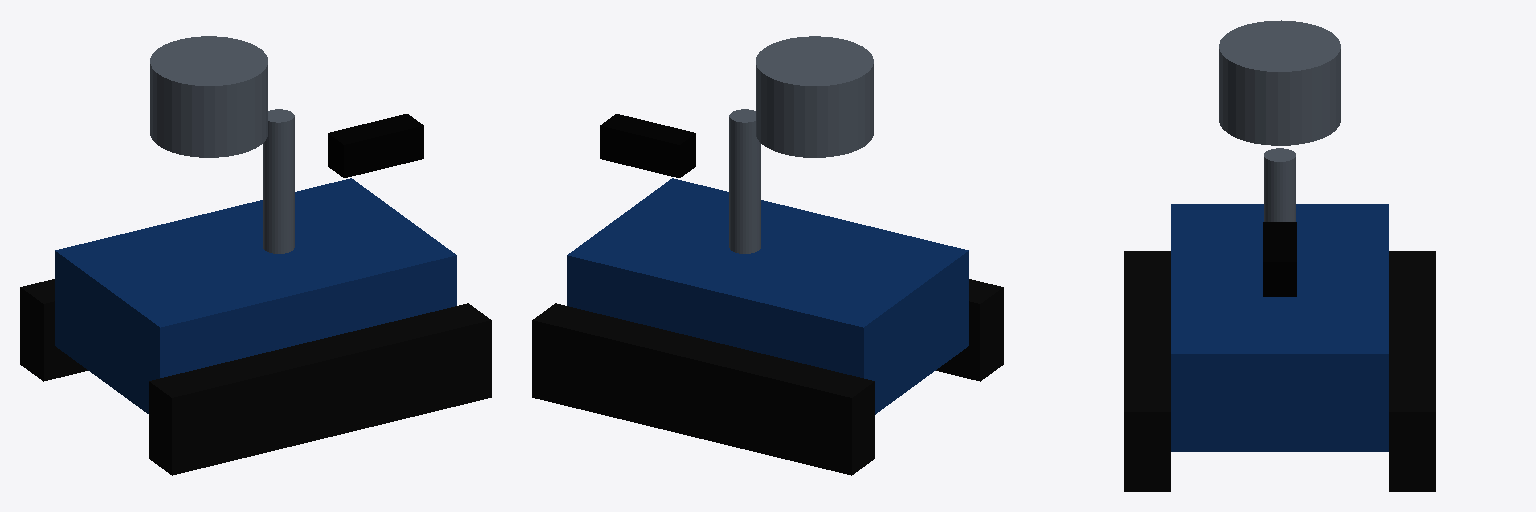
robot.urdf — iecme_tank:
<?xml version="1.0"?>
<robot name="iecme_tank">
  <material name="body_blue"><color rgba="0.08 0.22 0.42 1.0"/></material>
  <material name="track_dark"><color rgba="0.06 0.06 0.06 1.0"/></material>
  <material name="sensor_gray"><color rgba="0.35 0.38 0.42 1.0"/></material>
  <material name="camera_black"><color rgba="0.03 0.03 0.03 1.0"/></material>

  <link name="base_footprint"/>
  <link name="base_link">
    <visual><origin xyz="0 0 0"/><geometry><box size="0.26 0.16 0.08"/></geometry><material name="body_blue"/></visual>
    <collision><origin xyz="0 0 0"/><geometry><box size="0.26 0.16 0.08"/></geometry></collision>
    <inertial><mass value="4.0"/><origin xyz="0 0 0"/><inertia ixx="0.010" ixy="0" ixz="0" iyy="0.025" iyz="0" izz="0.030"/></inertial>
  </link>
  <joint name="base_footprint_joint" type="fixed"><parent link="base_footprint"/><child link="base_link"/><origin xyz="0 0 0.075"/></joint>

  <link name="left_track_link">
    <visual><geometry><box size="0.28 0.035 0.065"/></geometry><material name="track_dark"/></visual>
  </link>
  <joint name="left_track_joint" type="fixed"><parent link="base_link"/><child link="left_track_link"/><origin xyz="0 0.0975 -0.035"/></joint>

  <link name="right_track_link">
    <visual><geometry><box size="0.28 0.035 0.065"/></geometry><material name="track_dark"/></visual>
  </link>
  <joint name="right_track_joint" type="fixed"><parent link="base_link"/><child link="right_track_link"/><origin xyz="0 -0.0975 -0.035"/></joint>

  <link name="sensor_mast_link">
    <visual><origin xyz="0 0 0.055"/><geometry><cylinder radius="0.012" length="0.11"/></geometry><material name="sensor_gray"/></visual>
  </link>
  <joint name="sensor_mast_joint" type="fixed"><parent link="base_link"/><child link="sensor_mast_link"/><origin xyz="0.02 0 0.04"/></joint>

  <link name="rslidar">
    <visual><origin xyz="0 0 0.03"/><geometry><cylinder radius="0.045" length="0.06"/></geometry><material name="sensor_gray"/></visual>
  </link>
  <joint name="rslidar_joint" type="fixed"><parent link="base_link"/><child link="rslidar"/><origin xyz="-0.041 0 0.15" rpy="0 0 0.167"/></joint>

  <link name="imu_link"/>
  <joint name="imu_joint" type="fixed"><parent link="base_link"/><child link="imu_link"/><origin xyz="0 0 0"/></joint>

  <link name="camera_link">
    <visual><geometry><box size="0.07 0.025 0.028"/></geometry><material name="camera_black"/></visual>
  </link>
  <joint name="camera_mount_joint" type="fixed"><parent link="base_link"/><child link="camera_link"/><origin xyz="0.105 0 0.105"/></joint>
</robot>

--- Facts derived from the render (not from the file) ---
The picture shows the robot from 3 angles, left to right: view 1: azimuth 30°, elevation 25°; view 2: azimuth 150°, elevation 25°; view 3: azimuth 270°, elevation 25°; orthographic projection.
Robot: iecme_tank — 8 links, 7 joints (7 fixed); root link base_footprint; default pose: every joint at zero.
Links seen in each view (by area): view 1: base_link, right_track_link, rslidar, camera_link, sensor_mast_link, left_track_link; view 2: base_link, left_track_link, rslidar, camera_link, sensor_mast_link, right_track_link; view 3: base_link, rslidar, left_track_link, right_track_link, camera_link, sensor_mast_link.
Boxes of the visible links, <box> form: base_link: <box>55,178,456,413</box>; right_track_link: <box>149,303,491,475</box>; rslidar: <box>150,36,267,157</box>; camera_link: <box>328,114,423,177</box>; sensor_mast_link: <box>263,109,294,253</box>; left_track_link: <box>20,279,87,381</box>; base_link: <box>567,178,968,414</box>; left_track_link: <box>532,303,874,475</box>; rslidar: <box>756,36,873,157</box>; camera_link: <box>600,114,695,177</box>; sensor_mast_link: <box>729,109,760,253</box>; right_track_link: <box>936,279,1003,381</box>; base_link: <box>1171,204,1388,451</box>; rslidar: <box>1219,20,1340,145</box>; left_track_link: <box>1389,251,1435,491</box>; right_track_link: <box>1124,251,1170,491</box>; camera_link: <box>1263,222,1296,296</box>; sensor_mast_link: <box>1264,148,1295,221</box>.
Size in the robot's own frame: 0.28 by 0.23 by 0.2775 metres.
Geometry: primitives only (box / cylinder / sphere), no mesh files.
